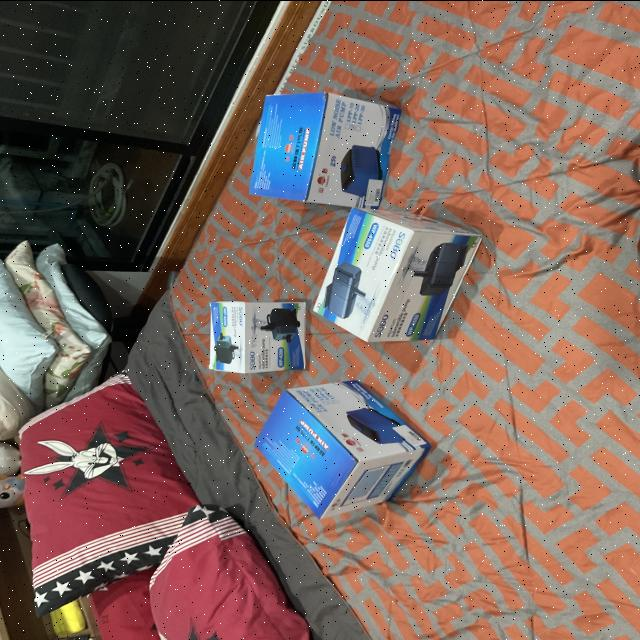SOBO_WP_4200: (300, 204, 493, 348), (192, 292, 321, 388)
YAMANO_LPP_20: (242, 372, 460, 541), (247, 68, 410, 222)
